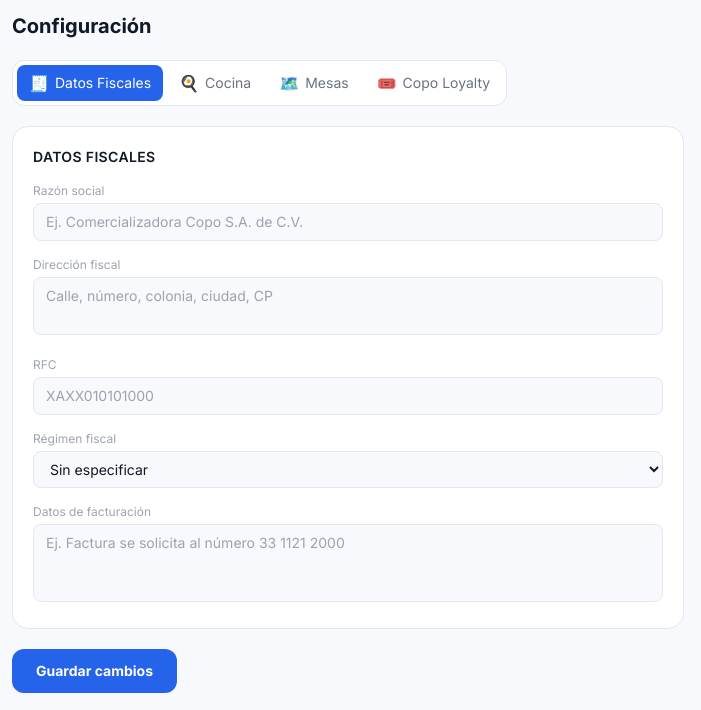
Scenario: SettingsPage › switches to Cocina tab
Click the button "🍳 Cocina" at point(215, 83), box [167,65,263,101]
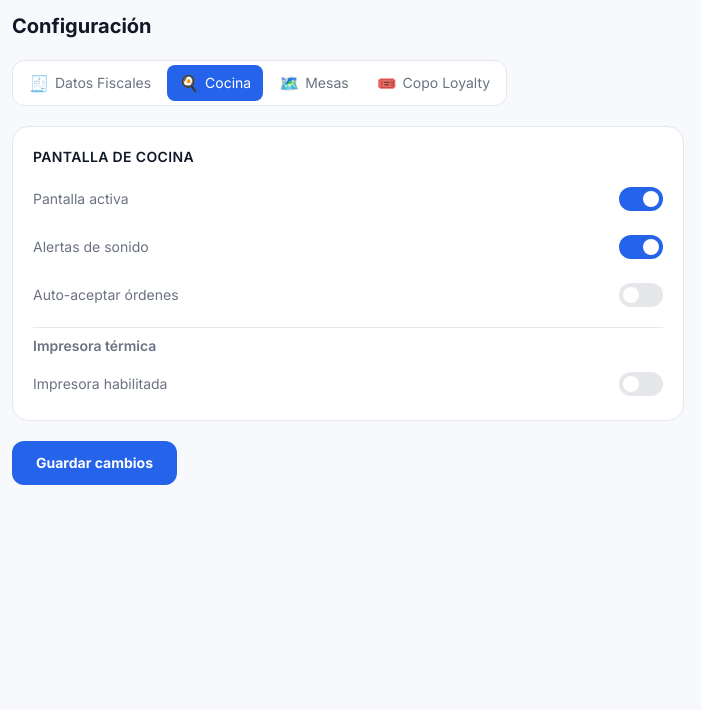
Expected: the heading "Pantalla de cocina" is shown, [33,148,194,165]
